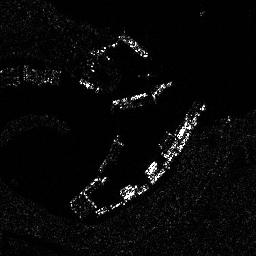ship: (119, 32, 149, 57)
